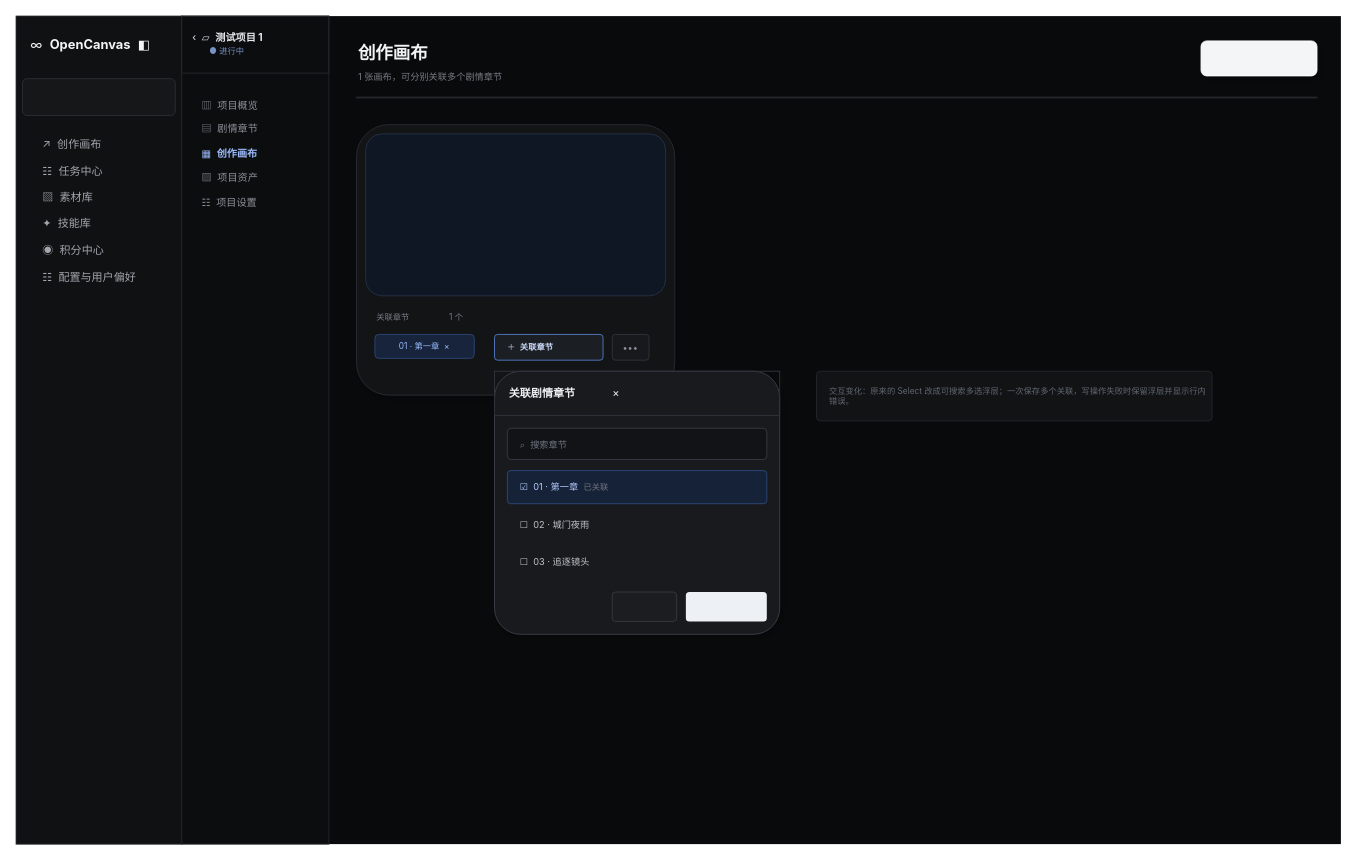
This 1357x860 diagram has some shape labels left out. The centre of each missing label's shape, as x and y in pixels:
"▣ 项目中心" belongs at (98,96).
"保存关联" belongs at (725,606).
"取消" belongs at (644,606).
"画布 01 111 更新于 07/24 22:24" belongs at (515,214).
"＋ 新建画布" belongs at (1259,59).
